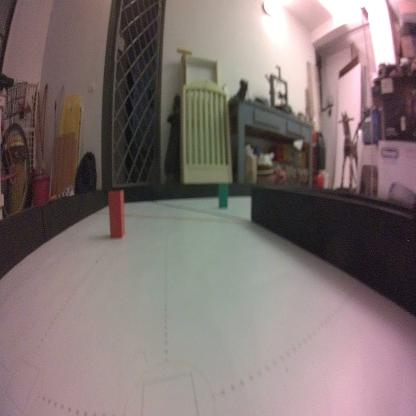green: (217, 183, 229, 211)
red: (106, 188, 126, 240)
